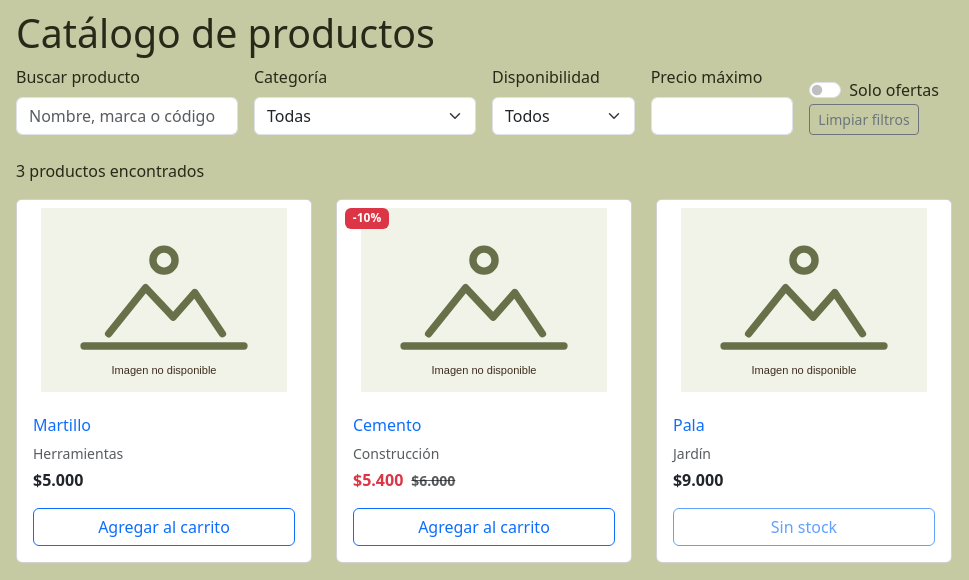
Test: CatalogPage › searches ignoring accents and case
The width and height of the screenshot is (969, 580).
Check: the text "3 productos encontrados" is shown, box [16,160,204,182]
In the field labelled "Buscar producto": coordinates (127, 116) [16,97,238,135], type "CEMÉNTO"
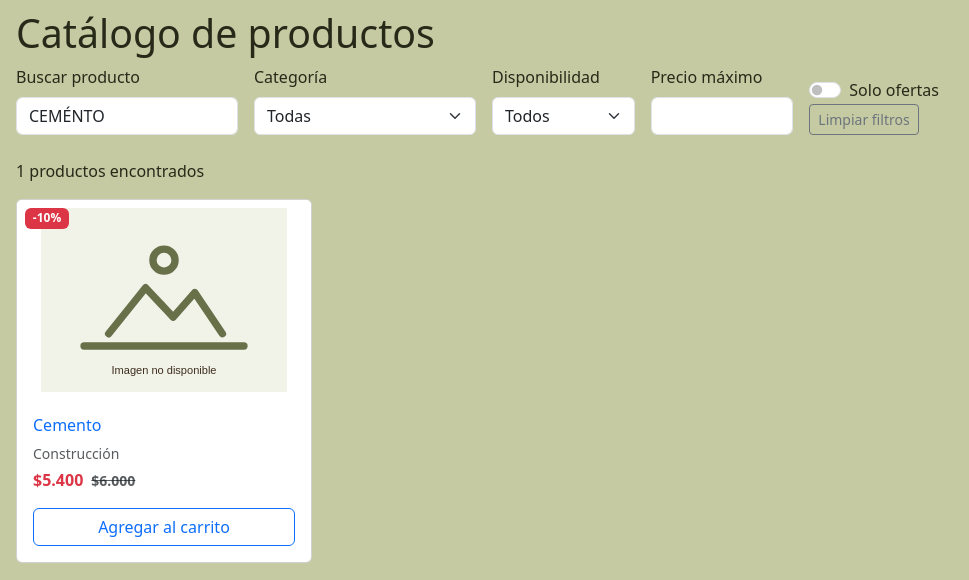
Check: the text "1 productos encontrados" is shown, box [16,160,204,182]
